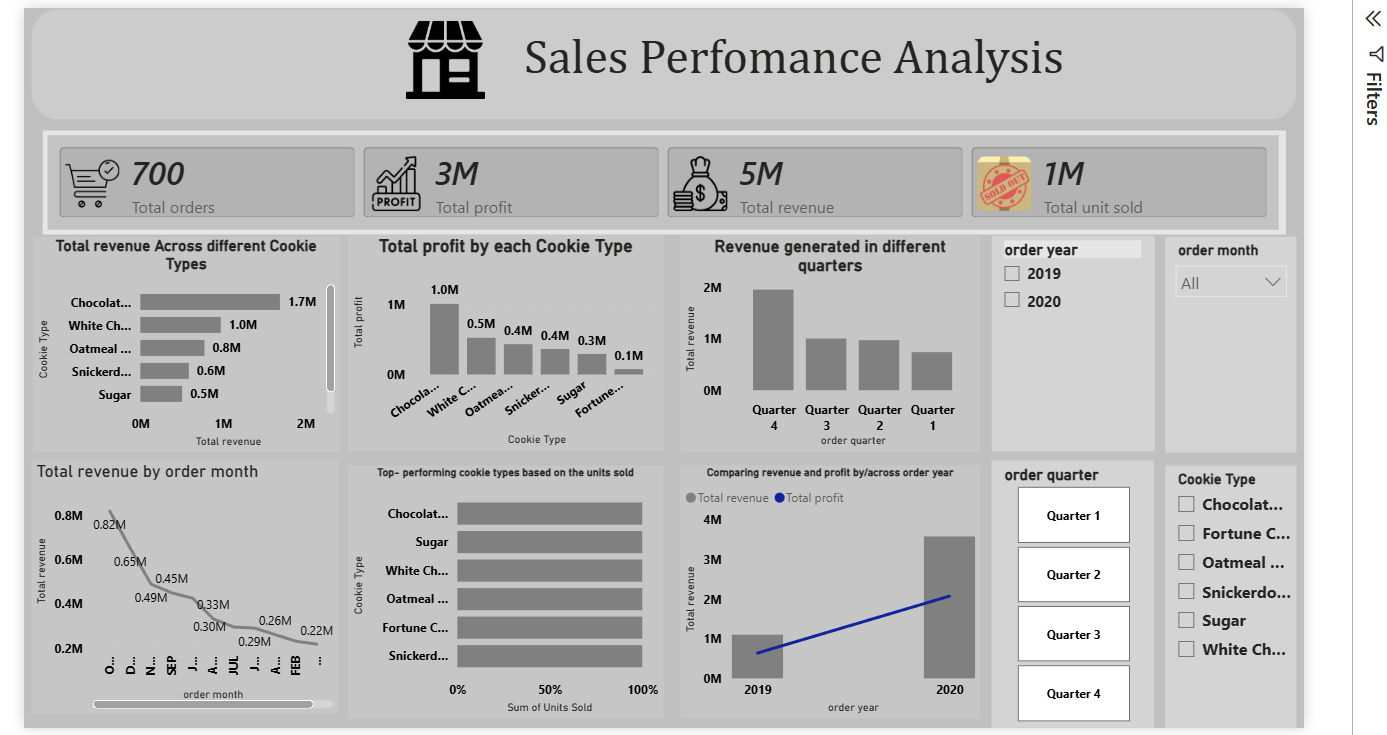

The dashboard page shown, as its layout file describes it:
{"tool":"powerbi","page":{"name":"Sales perfomance  Analysis Dashboard","canvas":[1280,720],"ordinal":0},"visuals":[{"type":"shape","box":[7.5,1.2,1265,110],"z":0},{"type":"textbox","box":[30,18.8,1231.2,73.8],"z":1000},{"type":"cardVisual","fields":{"Data":["Orders.Total orders","Orders.Total profit","Orders.Total revenue","Orders.Total unit sold"]},"box":[18.6,122.9,1242.9,104.3],"z":2000},{"type":"image","box":[135,11.7,573.3,81.7],"z":3000},{"type":"clusteredBarChart","title":"Total revenue Across different Cookie Types","fields":{"Y":["Orders.Total revenue"],"Category":["Cookie Types.Cookie Type"]},"box":[8.6,228.6,307.1,215.7],"z":4000},{"type":"clusteredColumnChart","title":"Total profit by each Cookie Type","fields":{"Y":["Orders.Total profit"],"Category":["Cookie Types.Cookie Type"]},"box":[323.8,227.5,316.2,215],"z":5000},{"type":"lineChart","fields":{"Category":["Orders.order month"],"Y":["Orders.Total revenue"]},"box":[7.1,452.9,307.1,252.9],"z":6000},{"type":"columnChart","title":"Revenue generated in different quarters","fields":{"Y":["Orders.Total revenue"],"Category":["Orders.order quarter"]},"box":[655.7,227.1,300,215.7],"z":7000},{"type":"hundredPercentStackedBarChart","title":"Top- performing cookie types based on the units sold","fields":{"Y":["Sum(Orders.Units Sold)"],"Category":["Cookie Types.Cookie Type"]},"box":[324.3,457.1,315.7,252.9],"z":8000},{"type":"lineClusteredColumnComboChart","title":" Comparing  revenue and profit by/across order year","fields":{"Category":["Orders.order year"],"Y":["Orders.Total revenue"],"Y2":["Orders.Total profit"]},"box":[655.7,457.1,300,252.9],"z":9000},{"type":"slicer","fields":{"Values":["Orders.order year"]},"box":[967.1,227.1,162.9,215.7],"z":10000},{"type":"slicer","fields":{"Values":["Orders.order month"]},"box":[1141.4,228.6,131.4,215.7],"z":11000},{"type":"slicer","fields":{"Values":["Orders.order quarter"]},"box":[967.5,452.5,162.5,267.5],"z":12000},{"type":"slicer","fields":{"Values":["Cookie Types.Cookie Type"]},"box":[1141.4,457.1,131.4,262.9],"z":13000}]}

Visuals, with their boxes on the page's 1280x720 design canvas (x1, y1, x2, y2). These are canvas units, not pixel positions in the 1387x735 screenshot, which may show the page scaled, cropped or inside an application window:
shape: region(8, 1, 1272, 111)
textbox: region(30, 19, 1261, 93)
cardVisual - Orders.Total orders x Orders.Total profit: region(19, 123, 1262, 227)
image: region(135, 12, 708, 93)
"Total revenue Across different Cookie Types" clusteredBarChart: region(9, 229, 316, 444)
"Total profit by each Cookie Type" clusteredColumnChart: region(324, 228, 640, 442)
lineChart - Orders.order month x Orders.Total revenue: region(7, 453, 314, 706)
"Revenue generated in different quarters" columnChart: region(656, 227, 956, 443)
"Top- performing cookie types based on the units sold" hundredPercentStackedBarChart: region(324, 457, 640, 710)
" Comparing  revenue and profit by/across order year" lineClusteredColumnComboChart: region(656, 457, 956, 710)
slicer - Orders.order year: region(967, 227, 1130, 443)
slicer - Orders.order month: region(1141, 229, 1273, 444)
slicer - Orders.order quarter: region(968, 452, 1130, 720)
slicer - Cookie Types.Cookie Type: region(1141, 457, 1273, 720)
